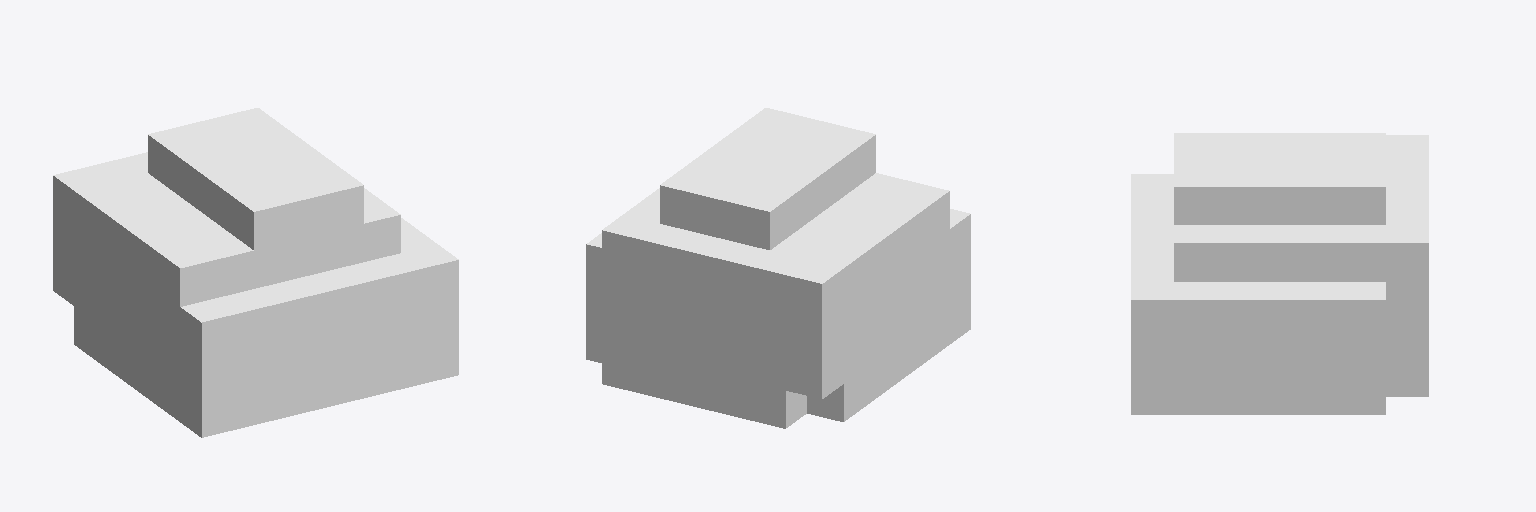
The model's file is rock2.obj.
The picture shows the model from 3 angles: view 1: azimuth 30°, elevation 25°; view 2: azimuth 150°, elevation 25°; view 3: azimuth 270°, elevation 25°; orthographic projection.
Visible parts, largest first — view 1: object 1; view 2: object 1; view 3: object 1.
Part boxes in pixels (x1,y1,x2,y2): object 1: (53,108,458,437); object 1: (586,108,970,428); object 1: (1131,133,1428,414).
Size of the model in its own units: 3.5 by 2.5 by 3.5.